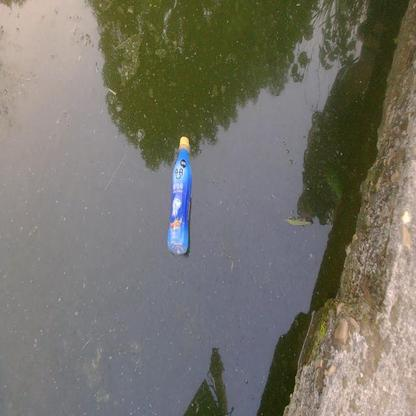plastic bottle: (168, 135, 191, 256)
